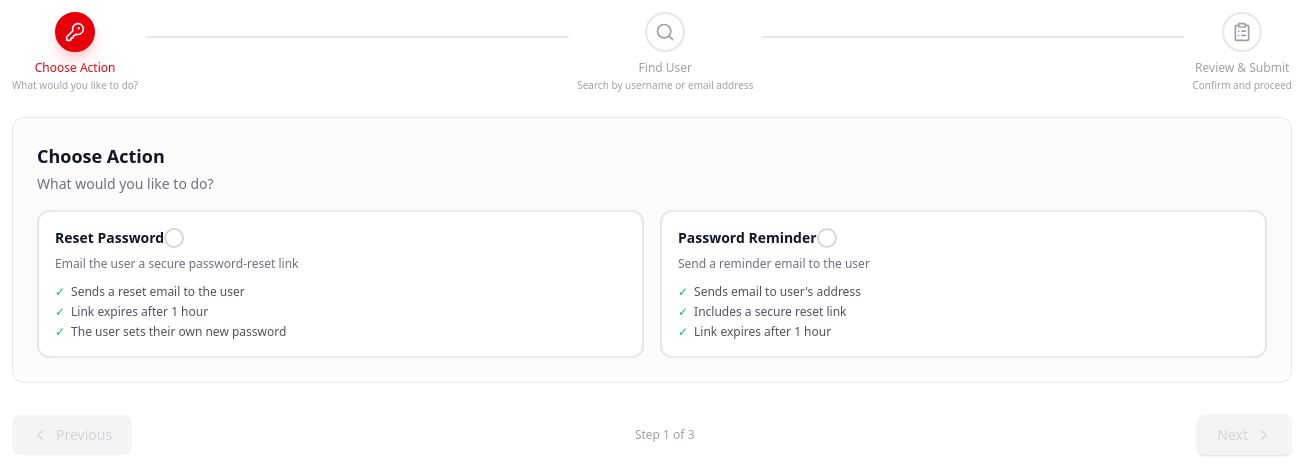
Scenario: PasswordForm Component › Step 2 — Find User Validation › shows error when lookup fails
Click the text "Reset Password" at (110, 238), box [55, 228, 164, 248]
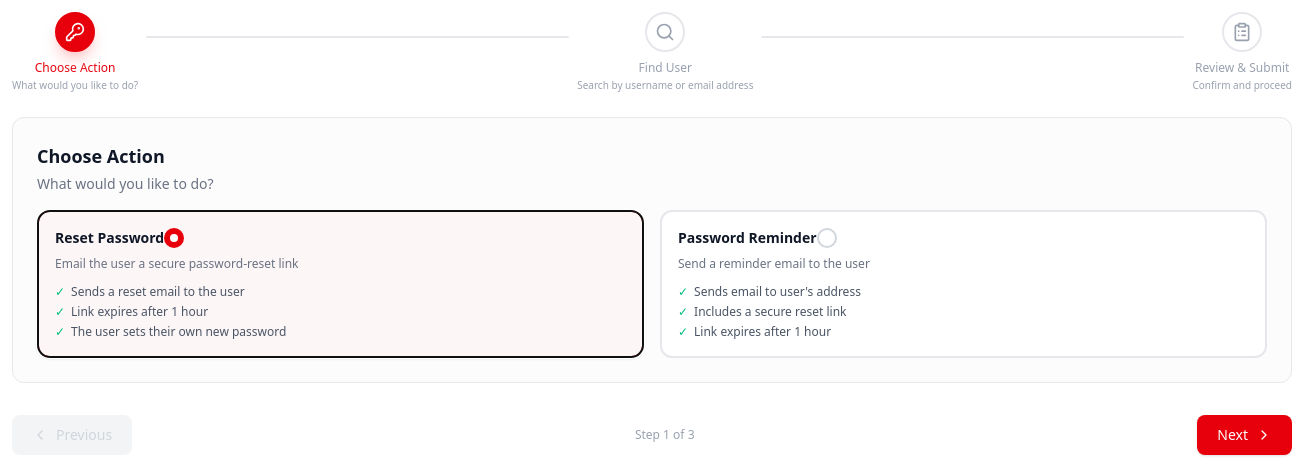
Click the button "Next" at (1245, 435), box [1197, 415, 1292, 455]
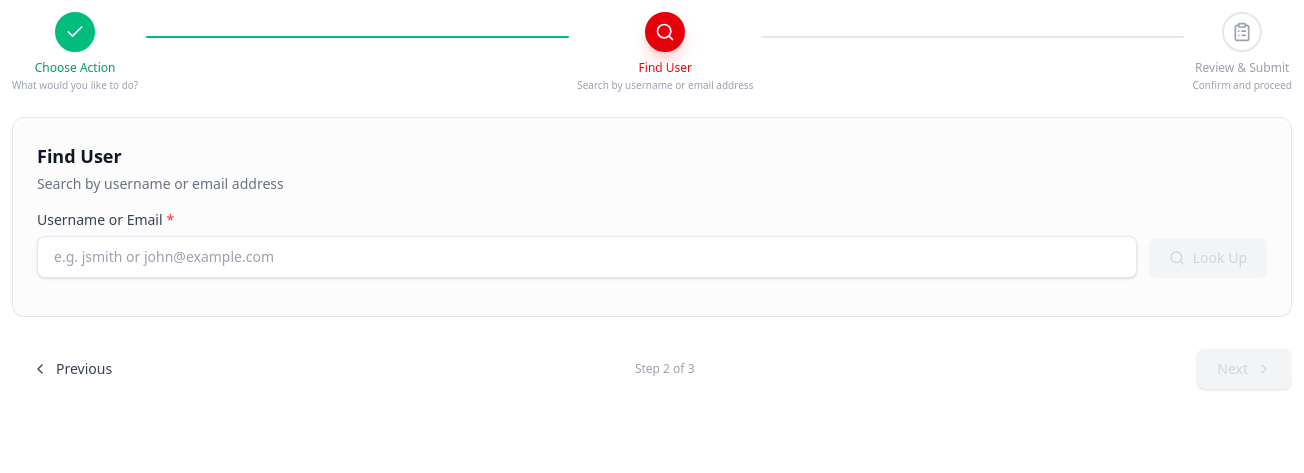
Type "nobody" into the field with placeholder "e.g. jsmith or john@example.com" at (587, 257), box [37, 236, 1137, 278]
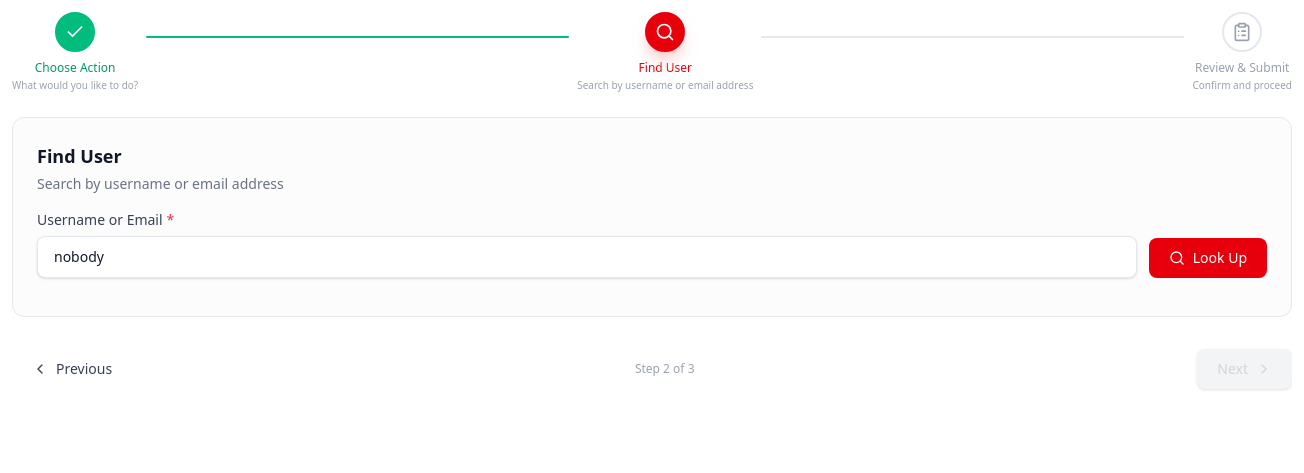
Click the button "Look Up" at (1208, 258), box [1149, 238, 1267, 278]
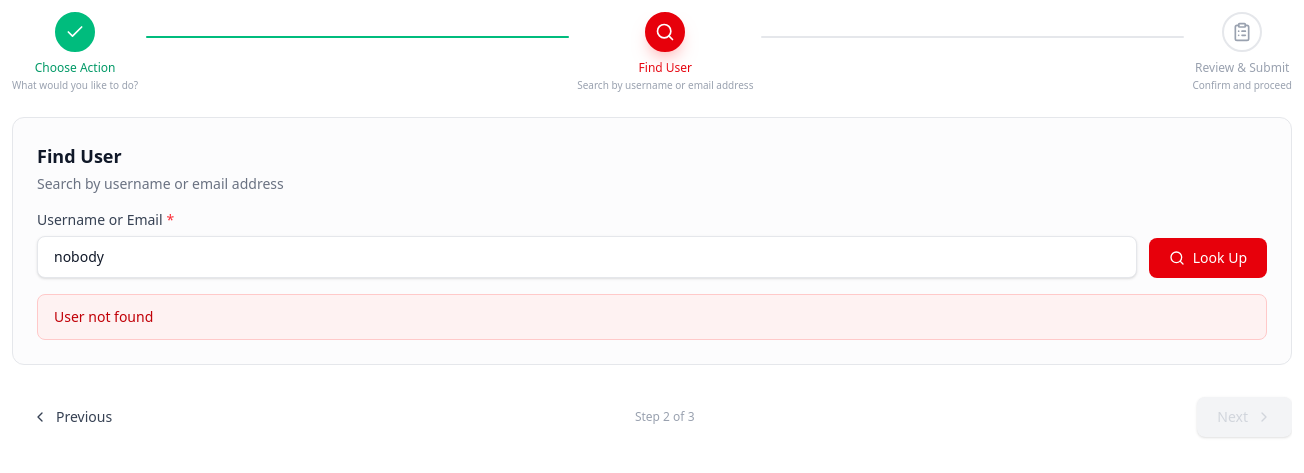
Expected: the text "User not found" is shown, [54, 307, 153, 326]
